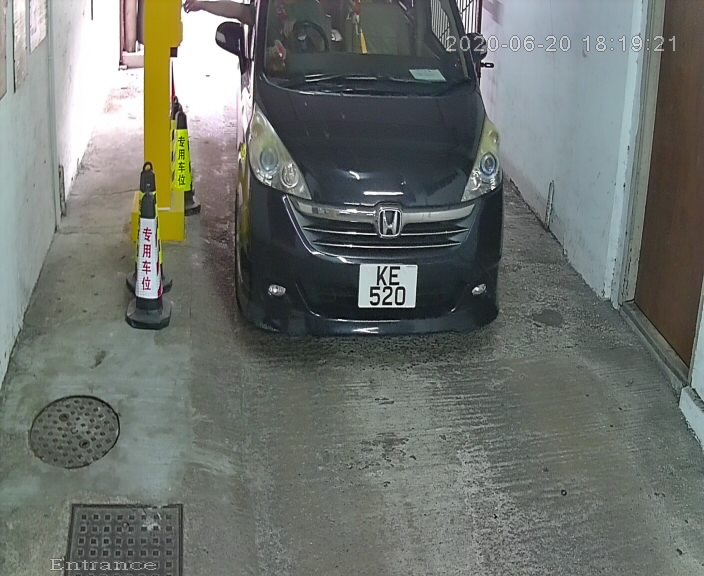privatecar: (205, 1, 521, 348)
